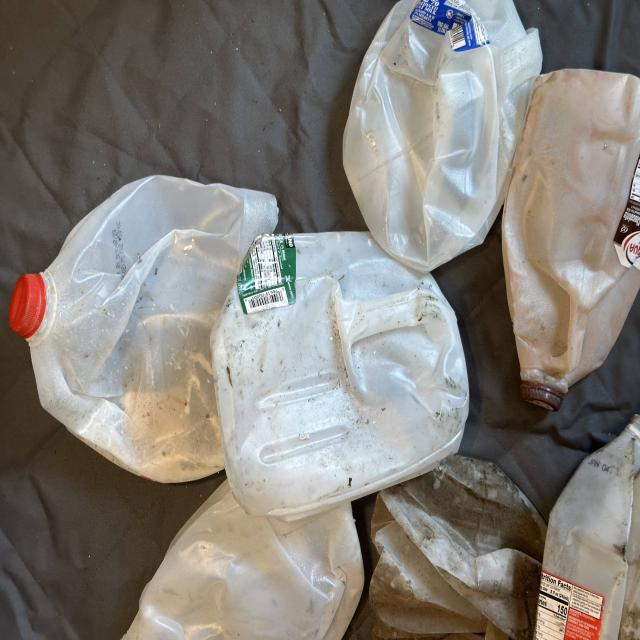milk-jug: (3, 172, 282, 484), (213, 225, 473, 491), (347, 0, 544, 275), (499, 69, 640, 424), (124, 466, 366, 640), (368, 458, 553, 640), (540, 403, 640, 640)
